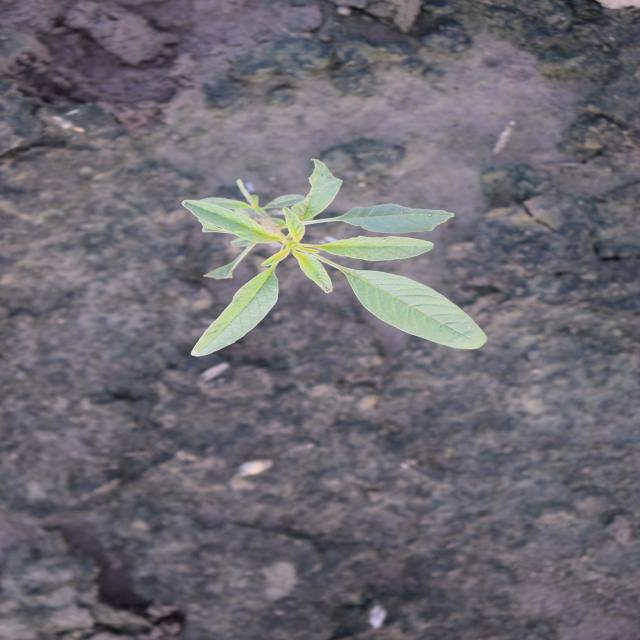Waterhemp: (180, 155, 491, 360)
